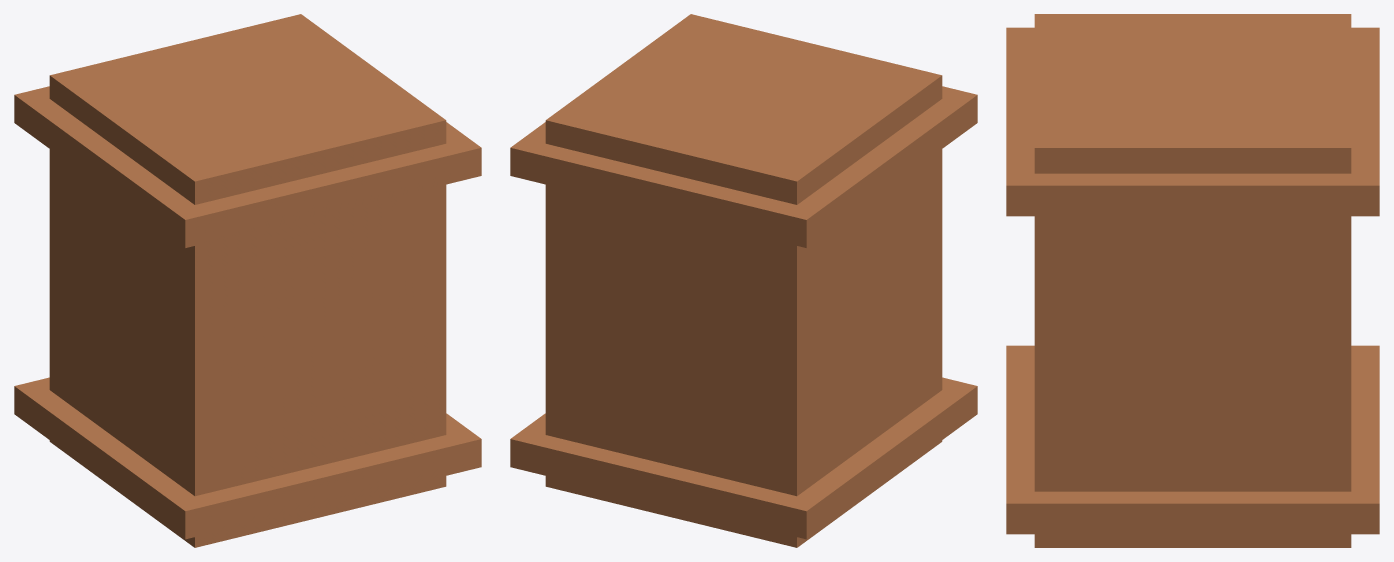
The model's file is barrel_rust.gltf.
3 views of the same model, side by side, from view 1: azimuth 30°, elevation 25°; view 2: azimuth 150°, elevation 25°; view 3: azimuth 270°, elevation 25° (orthographic). The views are drawn at different scales.
Size of the model in its own units: 0.66 by 0.78 by 0.66.
